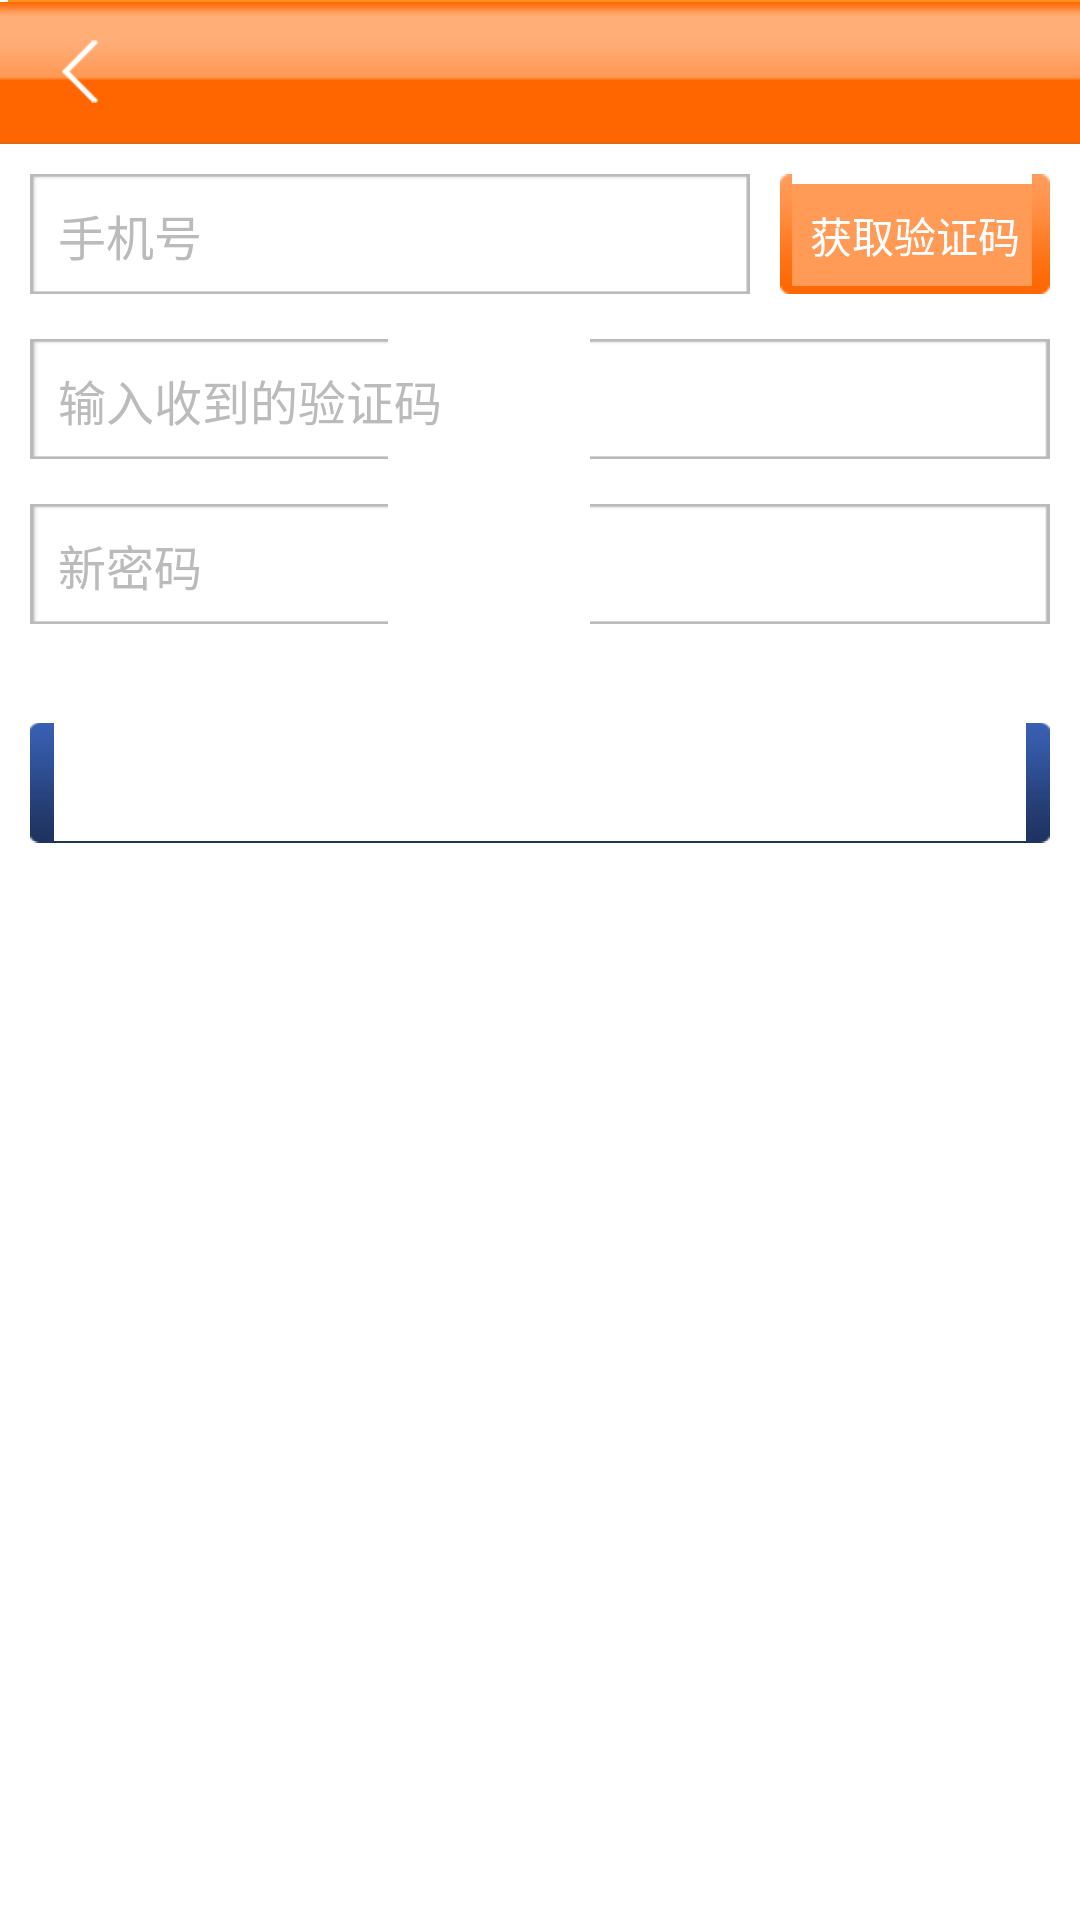

Point at icon controls on the screen. Image size 1080*1920, points as (x=x, y=y).
back: (x=80, y=71)
